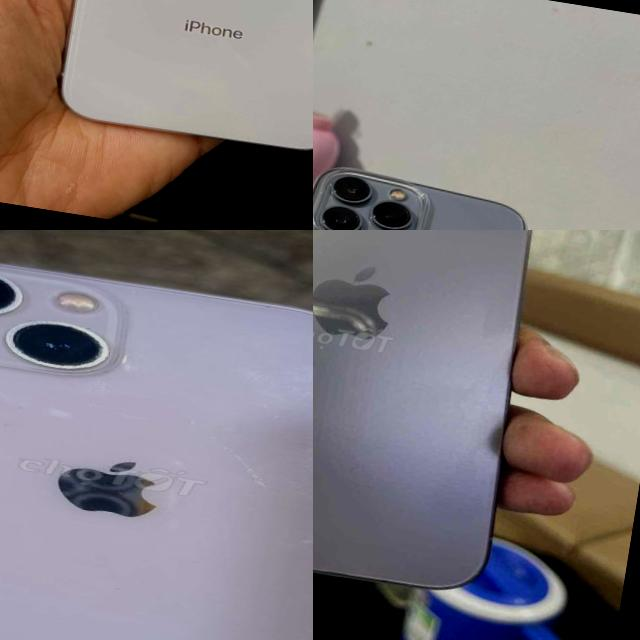gen_12_13: (0, 232, 313, 640), (313, 146, 539, 230)
gen_15: (313, 230, 576, 622)
gen_x_xs: (61, 0, 313, 148)
